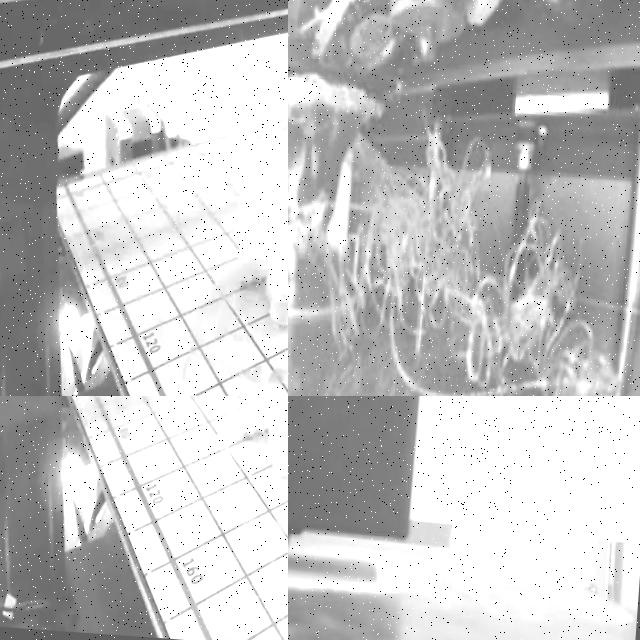spaghetti: (340, 144, 639, 396)
